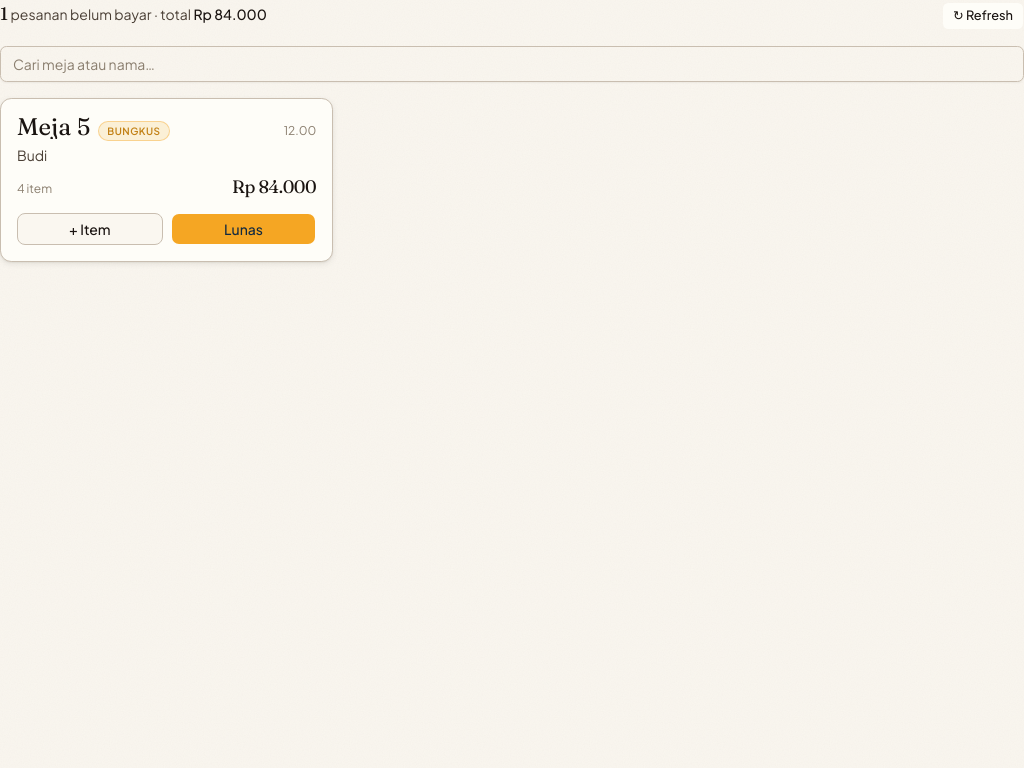
it: <MonitorBoard /> — lunas & nota › keeps the row removed and does not throw when the detail fetch fails after a successful mark
The width and height of the screenshot is (1024, 768).
What coordinates should you click on to do the following:
click the button "Lunas"
I would click on:
 (244, 229)
Its box is [171,213,316,245].
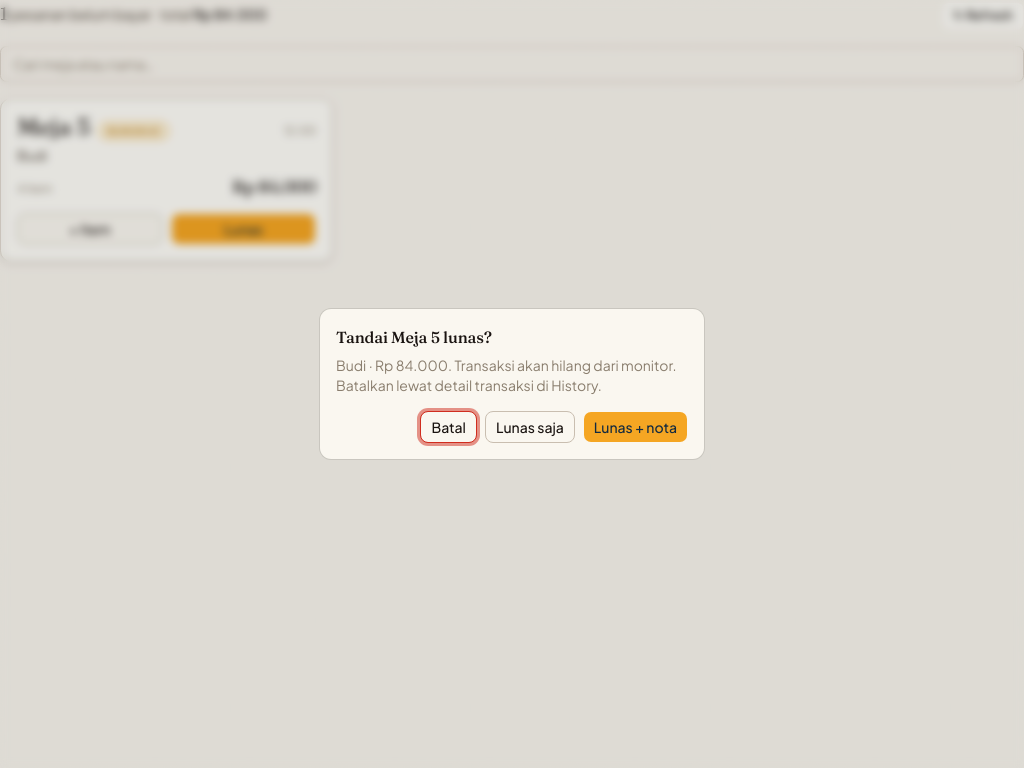
What coordinates should you click on to do the following:
click the button "Lunas + nota"
I would click on:
 (635, 427)
Its box is [583,411,688,443].
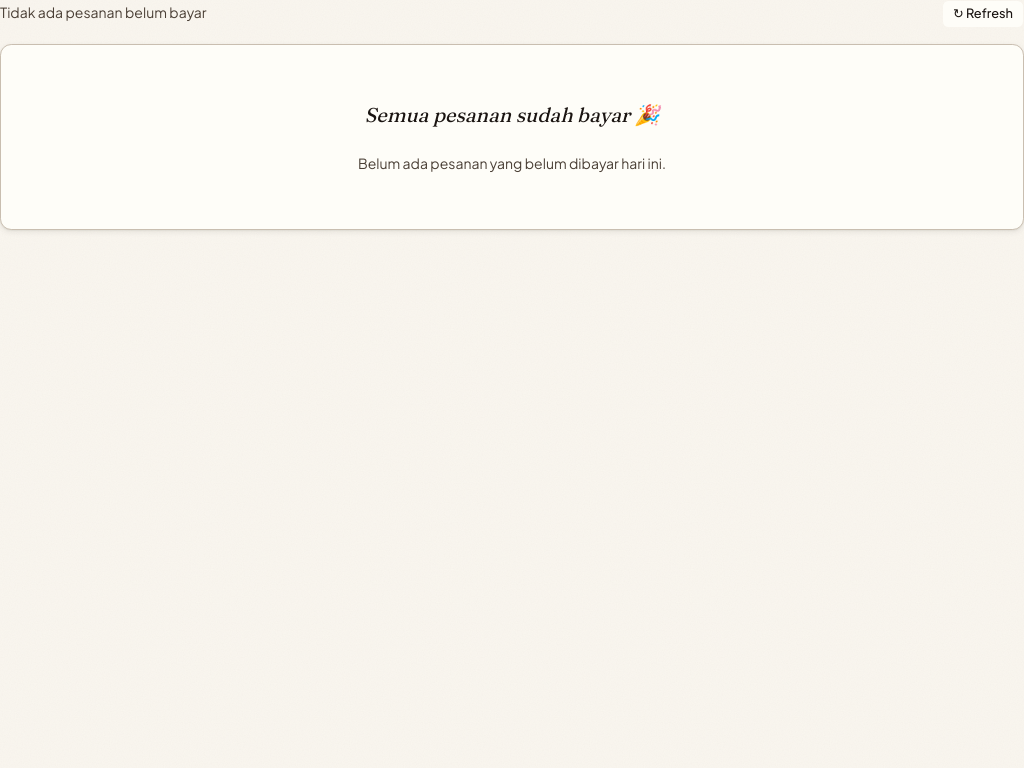
Now the button "Meja 5" is gone
